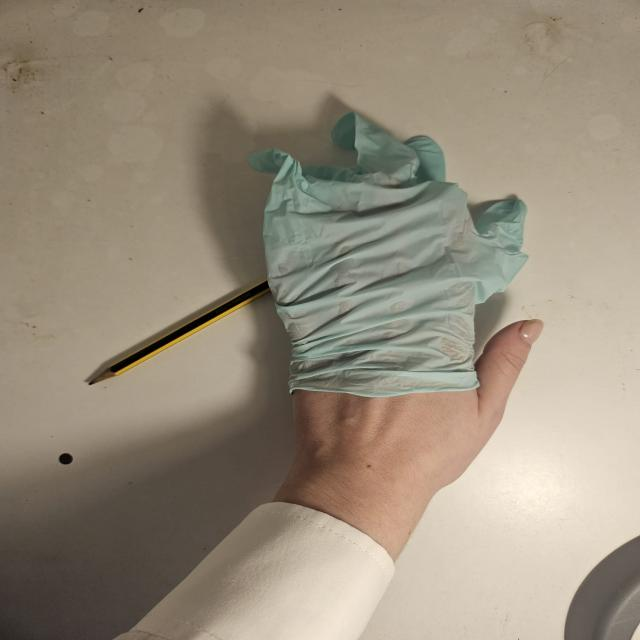glove_partial: (244, 113, 546, 486)
